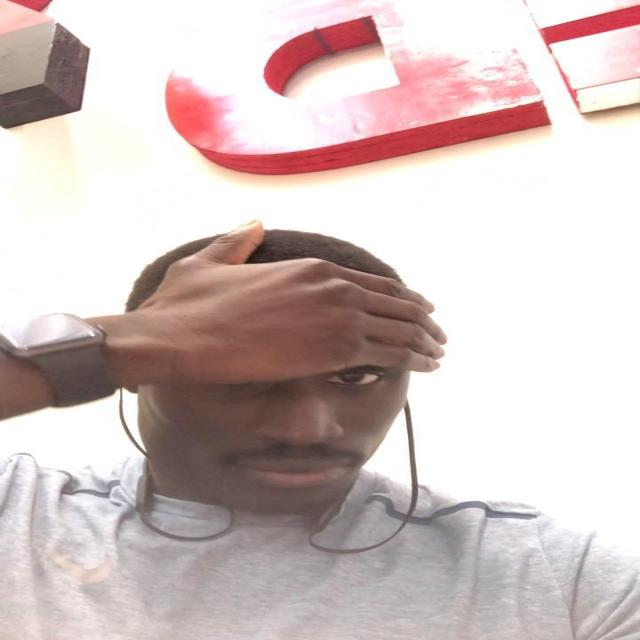face: (134, 293, 420, 513)
